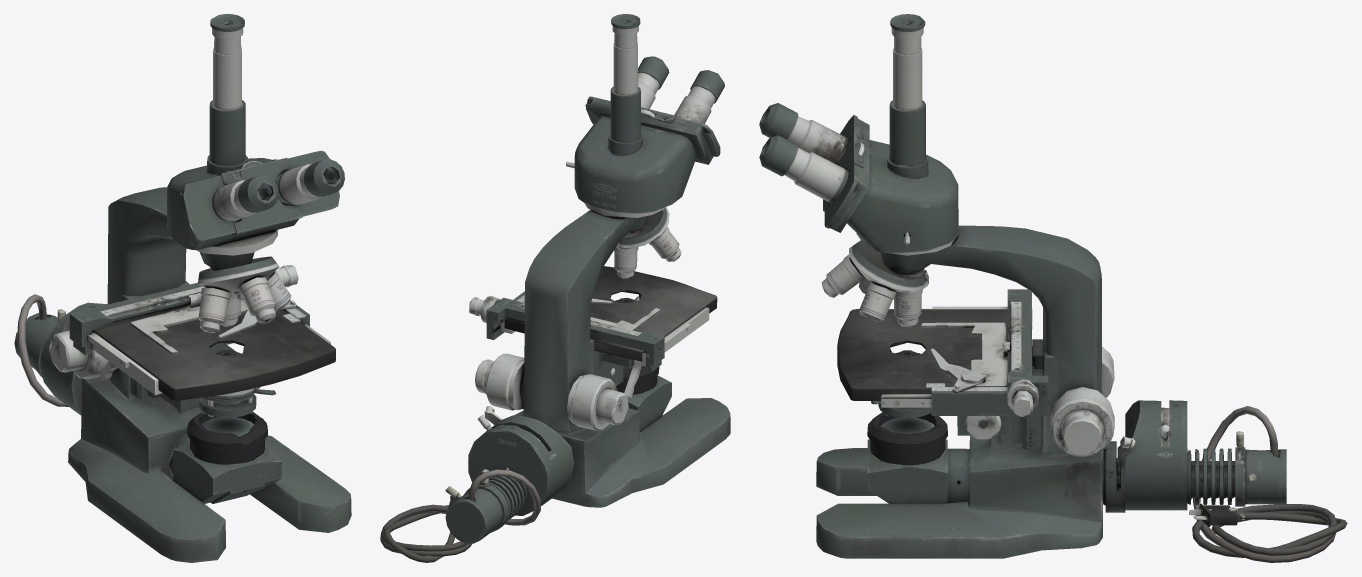
Rendered from industrial_microscope.glb.
3 renders of one model, left to right at view 1: azimuth 30°, elevation 25°; view 2: azimuth 150°, elevation 25°; view 3: azimuth 270°, elevation 25°, orthographic. The views are drawn at different scales.
Visible parts, largest first — view 1: industrial_microscope_cable; view 2: industrial_microscope_cable; view 3: industrial_microscope_cable.
Part boxes in pixels (left/top/right/bottom): industrial_microscope_cable: left=14, top=14, right=351, bottom=562; industrial_microscope_cable: left=380, top=14, right=730, bottom=562; industrial_microscope_cable: left=759, top=14, right=1347, bottom=562.
Size of the model in its own units: 0.2145 by 0.4617 by 0.4981.
1 material, 1 textured.
